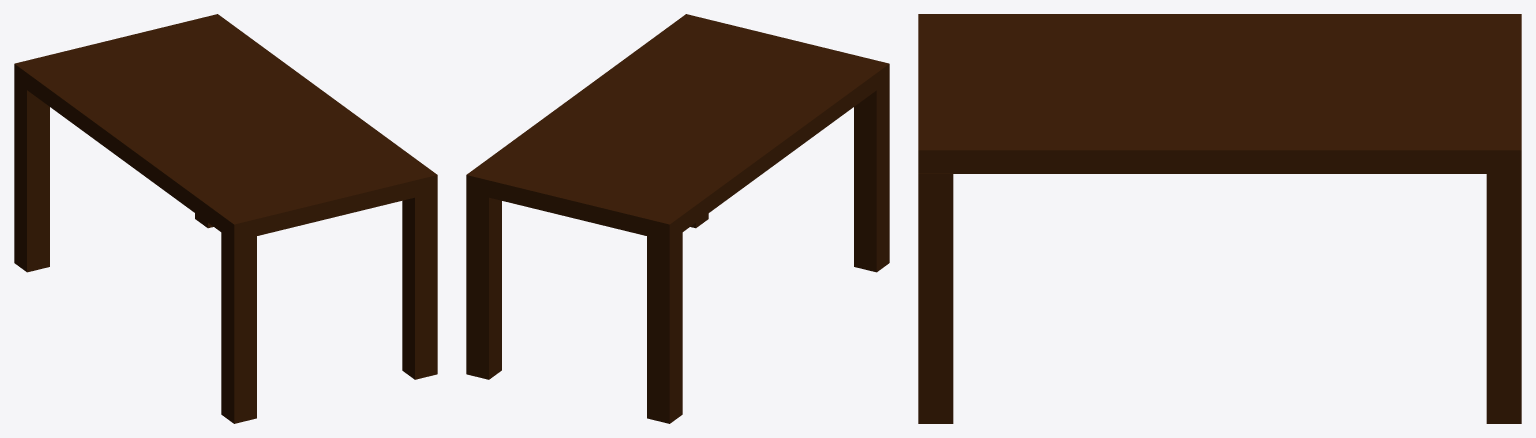
File: Sidetable.fbx
The picture shows the model from 3 angles, left to right: view 1: azimuth 30°, elevation 25°; view 2: azimuth 150°, elevation 25°; view 3: azimuth 270°, elevation 25°; orthographic projection. The views are drawn at different scales.
Visible parts, largest first — view 1: Desk_stand, Desk_right_1, Desk_right_2, Desk_left_1; view 2: Desk_stand, Desk_left_1, Desk_left_2, Desk_right_1; view 3: Desk_stand, Desk_right_2, Desk_left_2.
Part boxes in pixels (x1,y1,x2,y2): Desk_stand: (14,14,437,241); Desk_right_1: (221,232,256,423); Desk_right_2: (402,192,437,379); Desk_left_1: (14,81,49,272); Desk_stand: (466,14,889,241); Desk_left_1: (647,232,682,423); Desk_left_2: (466,192,501,379); Desk_right_1: (854,81,889,272); Desk_stand: (918,14,1521,173); Desk_right_2: (918,173,953,423); Desk_left_2: (1486,174,1521,423).
Size of the model in its own units: 3.53 by 3.31 by 6.6.
